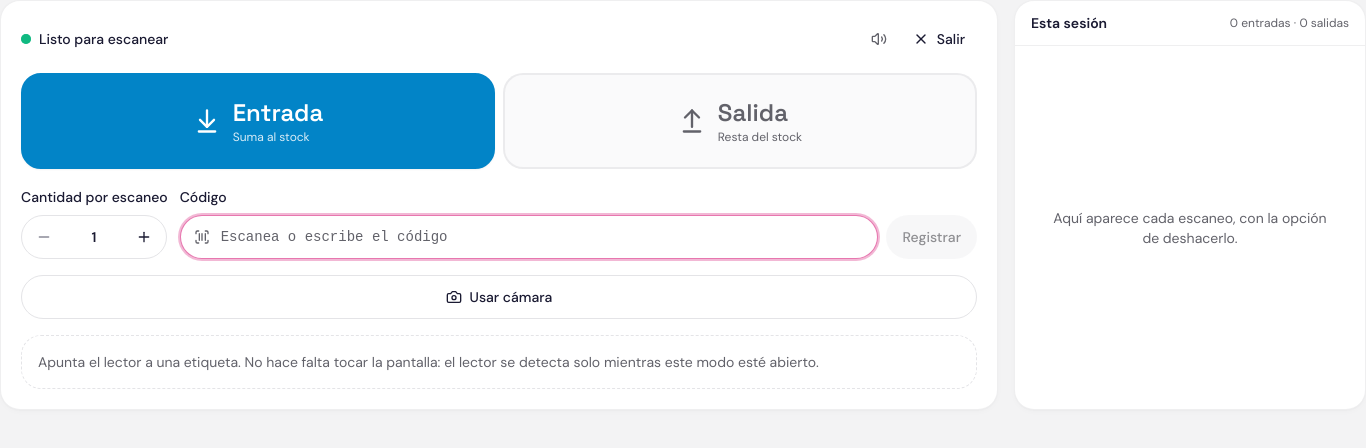
Test case: InventoryScanPanel › ENTRADA: registra +1 por código, pita y lo suma al registro de la sesión
The width and height of the screenshot is (1366, 448).
Type "EMD-000001" into the field labelled "Código" at (529, 237), box [180,215,878,259]
Then press Enter
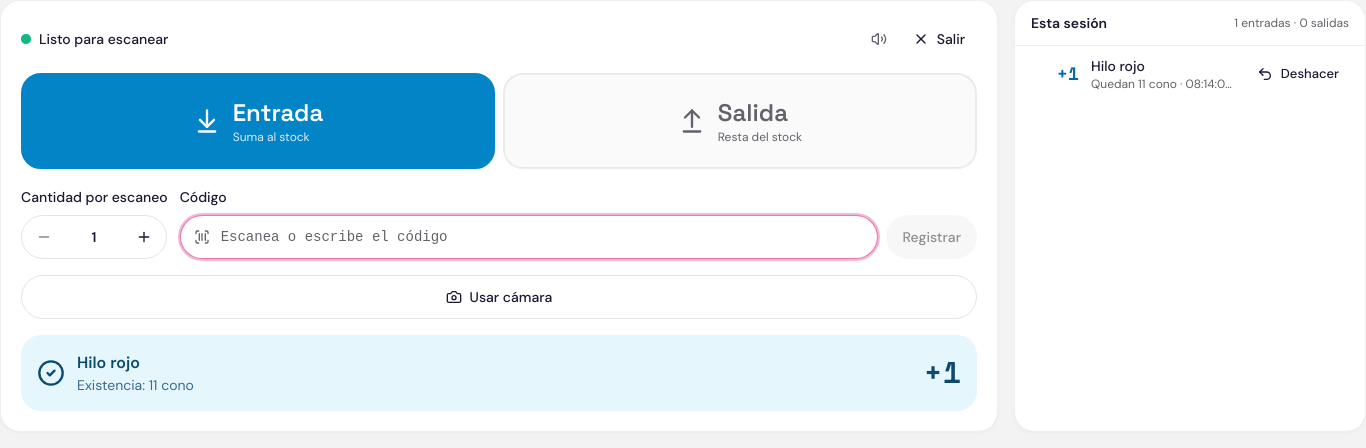
Check: the text "+1" next to "Quedan 11 cono" is shown, box [1057,62,1079,85]
Check: the text "Hilo rojo" below "Esta sesión" is shown, box [1091,57,1145,75]
Check: the text "Quedan 11 cono · 08:14:02 p.m." is shown, box [1091,76,1235,92]
